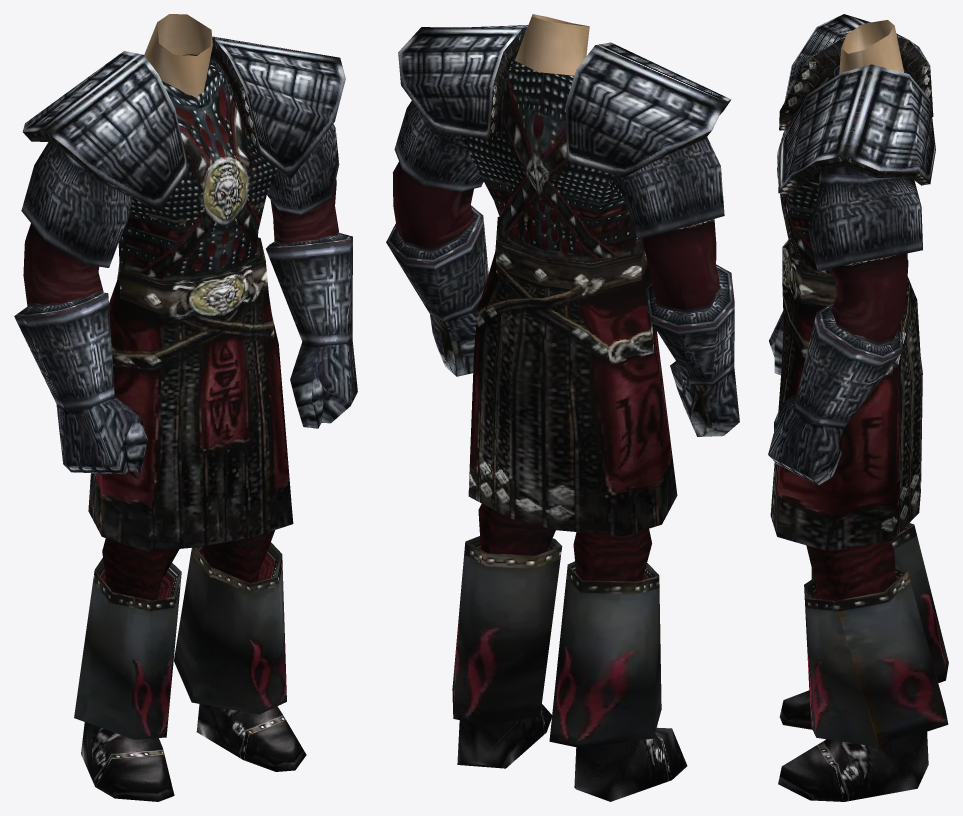
The model's file is ARMOR_ADEPTUS.glb.
3 views of the same model, side by side, from view 1: azimuth 30°, elevation 25°; view 2: azimuth 150°, elevation 25°; view 3: azimuth 270°, elevation 25° (orthographic). The views are drawn at different scales.
Parts seen in each view (by area): view 1: ARMOR_ADEPTUS; view 2: ARMOR_ADEPTUS; view 3: ARMOR_ADEPTUS.
Boxes of the visible parts, box(x1,y1,x2,y2) form: ARMOR_ADEPTUS: box(14, 14, 357, 801); ARMOR_ADEPTUS: box(386, 14, 739, 801); ARMOR_ADEPTUS: box(768, 14, 948, 801).
Size of the model in its own units: 0.7852 by 1.68 by 0.3782.
3 materials, 3 textured.
